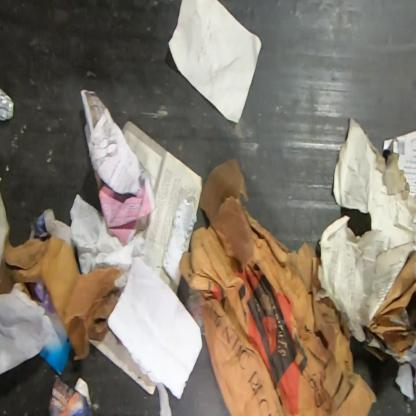cardboard: (107, 255, 204, 400), (332, 115, 415, 232), (367, 250, 416, 356)
soft_plastic: (0, 88, 15, 122)
